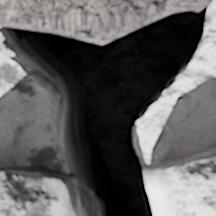brick: (0, 0, 210, 43)
broken_brick: (144, 146, 215, 215), (0, 164, 78, 215)
crack: (2, 0, 213, 215)
